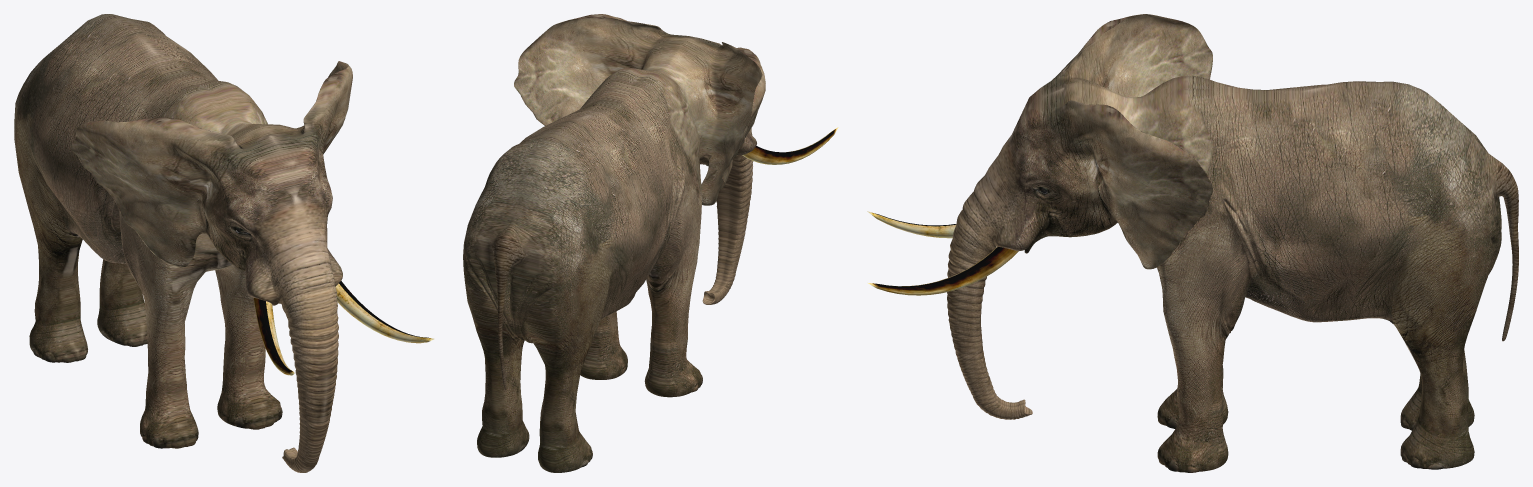
3 renders of one model, left to right at view 1: azimuth 30°, elevation 25°; view 2: azimuth 150°, elevation 25°; view 3: azimuth 270°, elevation 25°, orthographic. The views are drawn at different scales.
Parts seen in each view (by area): view 1: 3DSMeshMatrix (×3); view 2: 3DSMeshMatrix (×2); view 3: 3DSMeshMatrix (×3).
Boxes of the visible parts, x1,y1,x2,y2 form: 3DSMeshMatrix (×3): (14,14,433,472); 3DSMeshMatrix (×2): (463,14,838,472); 3DSMeshMatrix (×3): (867,14,1518,472).
Size of the model in its own units: 546 by 717 by 1132.
3 materials, 2 textured.
